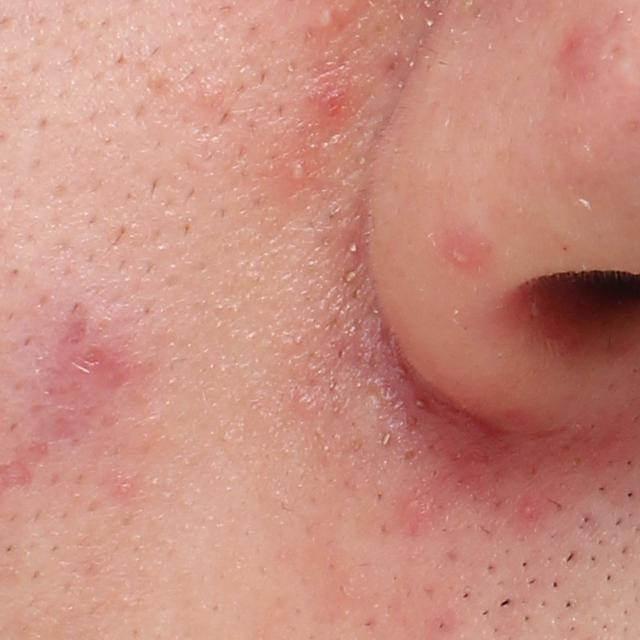papule: (59, 320, 122, 381), (443, 235, 481, 270)
pustule: (278, 152, 310, 188)
